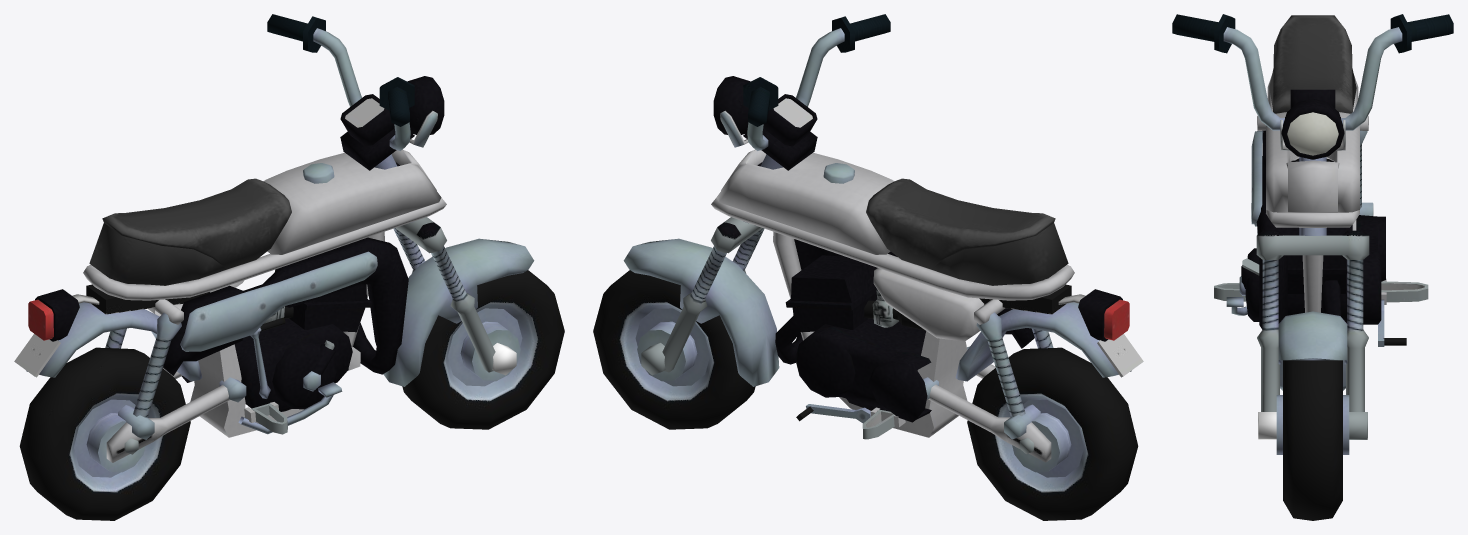
Rendered from suzuki.glb.
3 views of the same model, side by side, from view 1: azimuth 30°, elevation 25°; view 2: azimuth 150°, elevation 25°; view 3: azimuth 270°, elevation 25° (orthographic). The views are drawn at different scales.
Visible parts, largest first — view 1: [Mobile Optimized] Suzuki PV 50; view 2: [Mobile Optimized] Suzuki PV 50; view 3: [Mobile Optimized] Suzuki PV 50.
Boxes of the visible parts, x1,y1,x2,y2 form: [Mobile Optimized] Suzuki PV 50: (14,14,564,520); [Mobile Optimized] Suzuki PV 50: (593,14,1143,520); [Mobile Optimized] Suzuki PV 50: (1172,14,1453,520).
Size of the model in its own units: 1.63 by 1.19 by 0.6991.
Materials: 1 (1 with a texture image).
